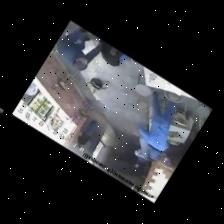person: (139, 92, 176, 159), (58, 27, 101, 70), (101, 39, 130, 66), (78, 120, 97, 146)
